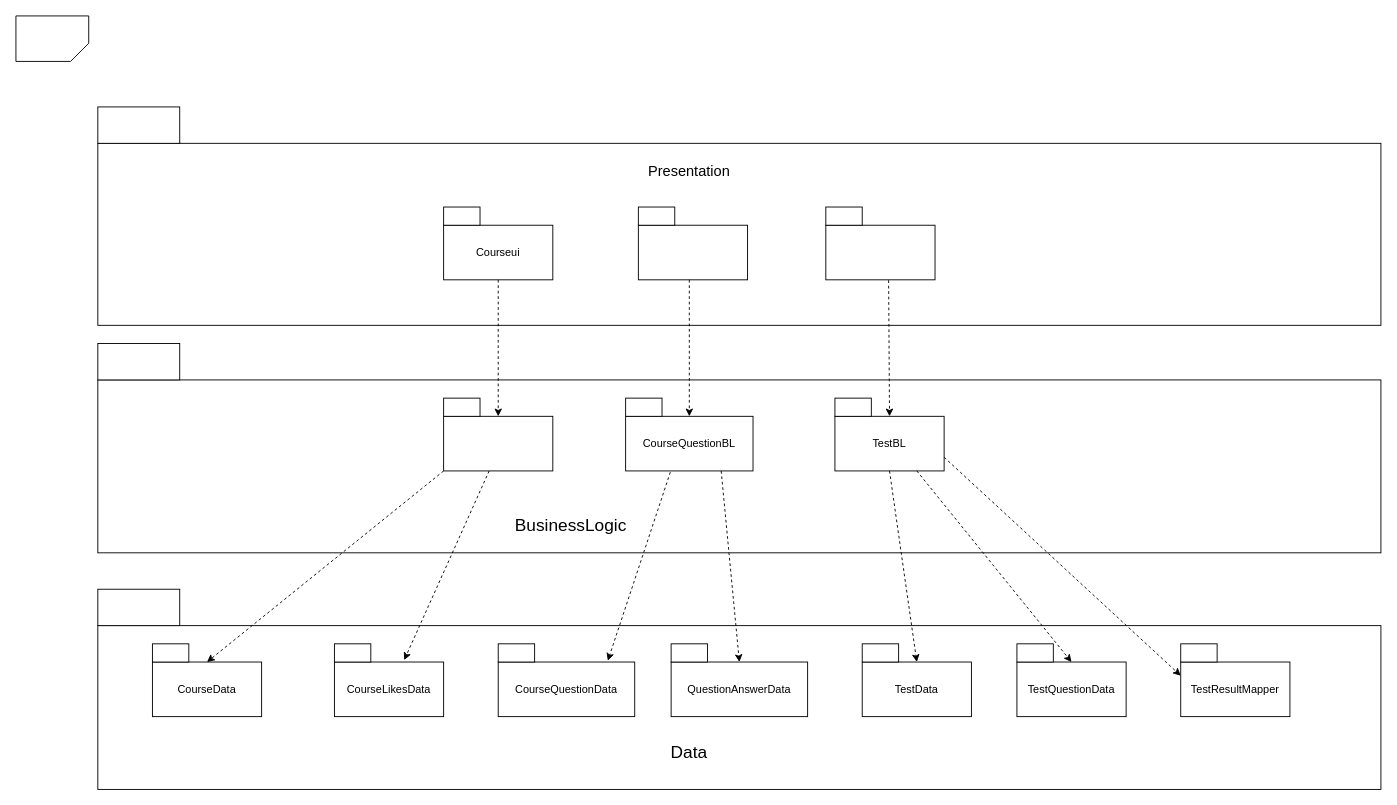
Some shapes in this 1397 by 805 pixel diagram are drawn without their labels. The centre of each missing label's shape, as x and y in pixels:
"CourseBL" goes at point 498,443.
"CourseQuestionui" goes at point 692,252.
"pkg" goes at point 52,38.
"Testui" goes at point 880,252.
